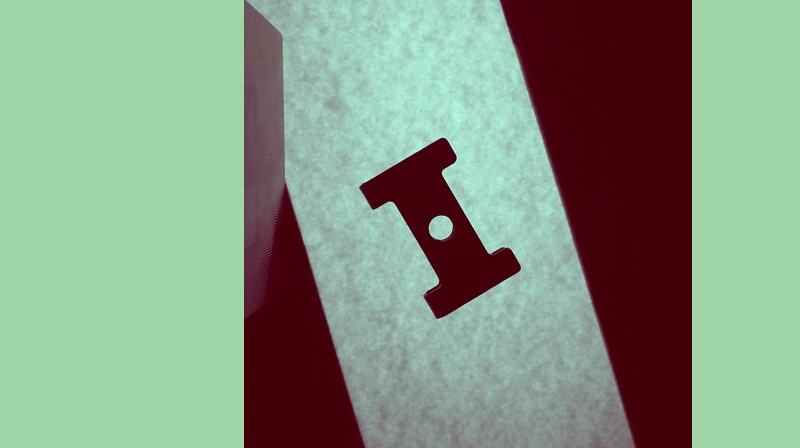O002: (357, 133, 521, 323)
